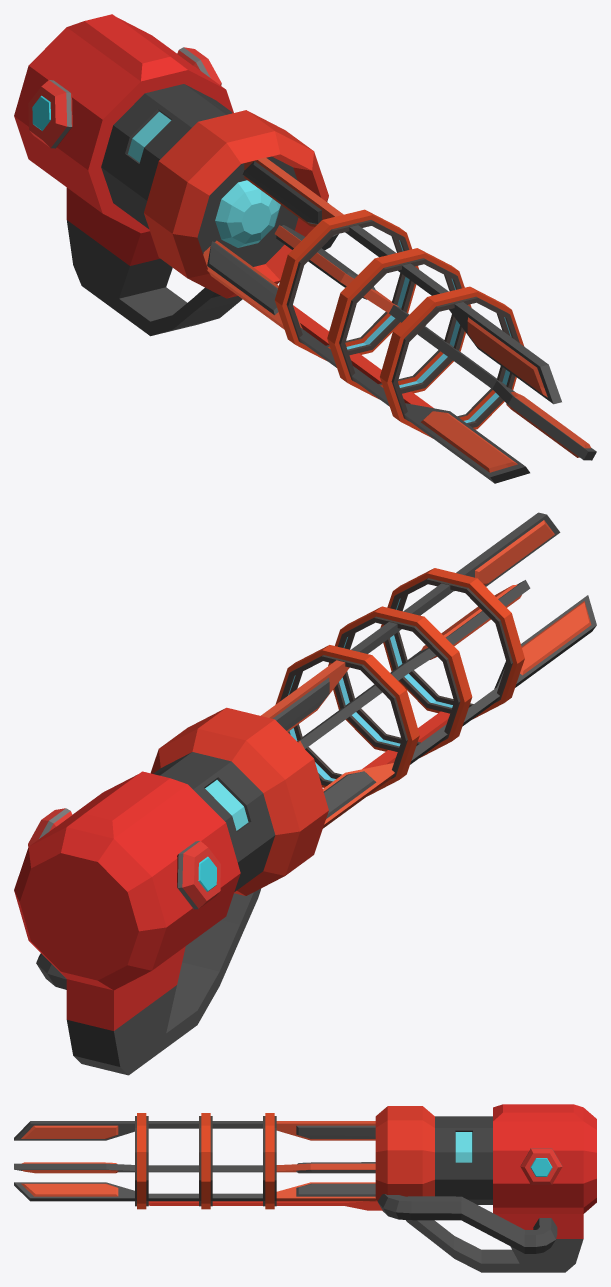
The model's file is Asteroid Destroyer.fbx.
3 renders of one model, top to bottom at view 1: azimuth 30°, elevation 25°; view 2: azimuth 150°, elevation 25°; view 3: azimuth 270°, elevation 25°, orthographic. The views are drawn at different scales.
Parts seen in each view (by area): view 1: Cylinder; view 2: Cylinder; view 3: Cylinder.
Boxes of the visible parts, left/top/right/bottom form: Cylinder: left=14, top=14, right=596, bottom=483; Cylinder: left=14, top=512, right=596, bottom=1075; Cylinder: left=14, top=1104, right=596, bottom=1272.
Size of the model in its own units: 667 by 859 by 2889.
